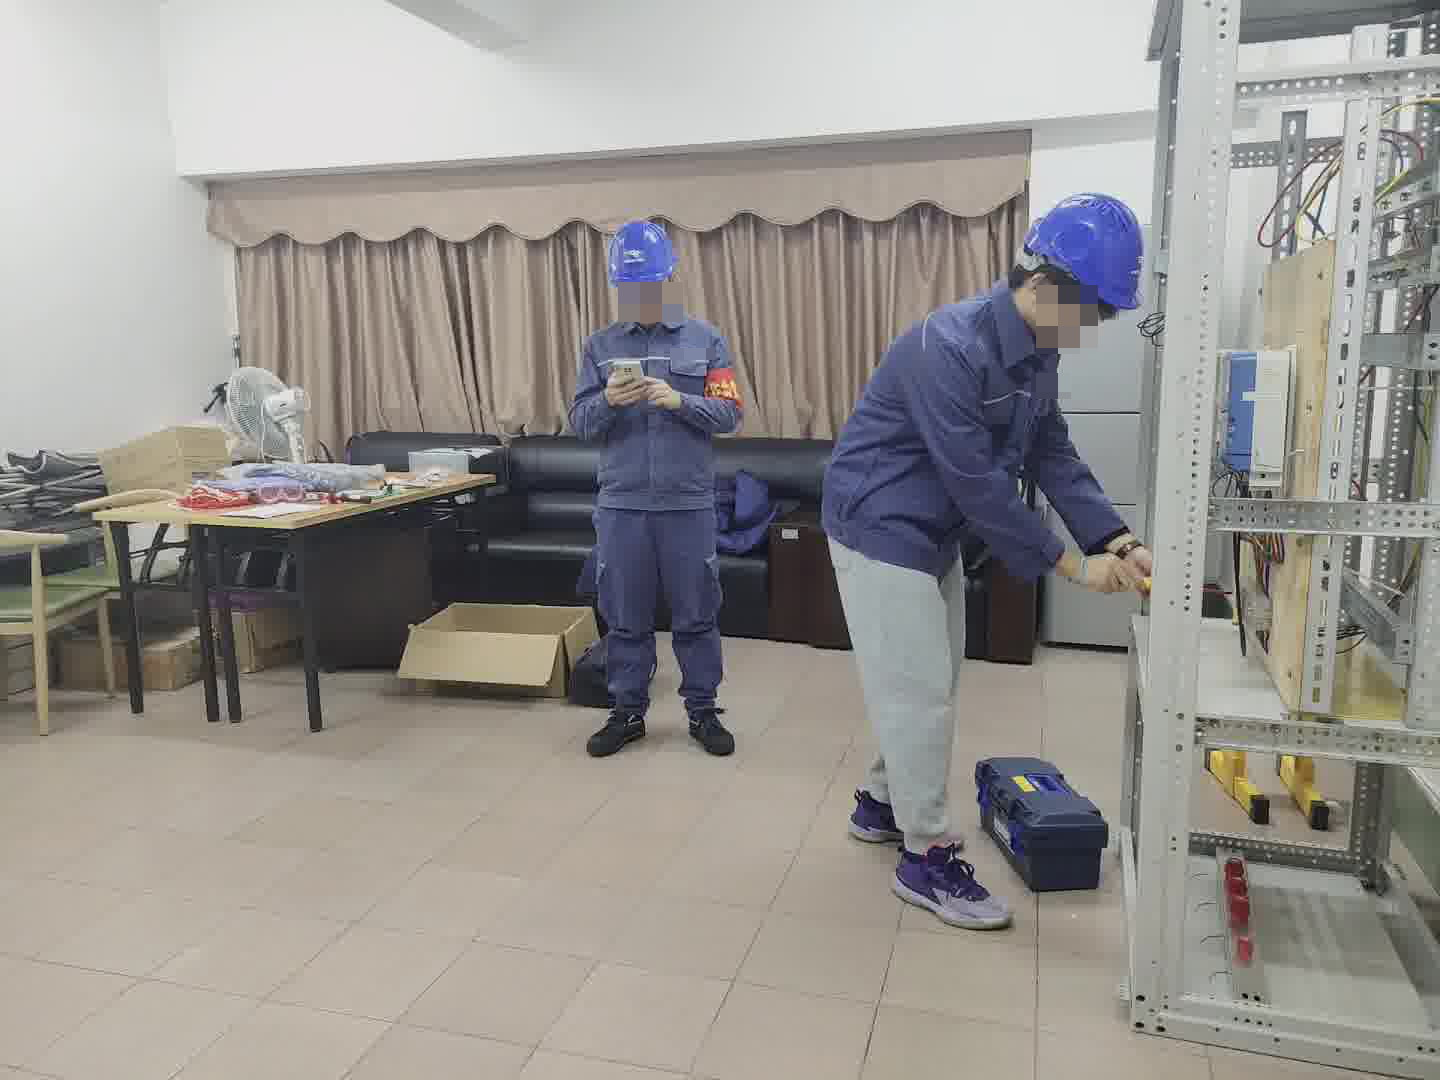badge: (700, 367, 745, 425)
downsuit: (583, 528, 730, 716)
halt: (1016, 190, 1148, 350), (602, 216, 684, 316)
hand: (1092, 532, 1153, 585), (1055, 548, 1120, 592), (605, 368, 645, 405), (643, 380, 677, 408)
inear: (661, 271, 687, 308)
noear: (1014, 266, 1058, 308)
person: (820, 187, 1162, 915), (560, 211, 750, 753)
upsuit: (822, 274, 1123, 570), (566, 307, 746, 510)
